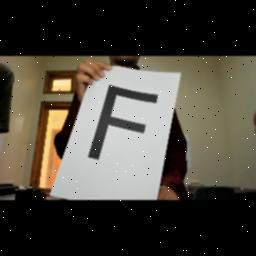f: (84, 82, 160, 174)
